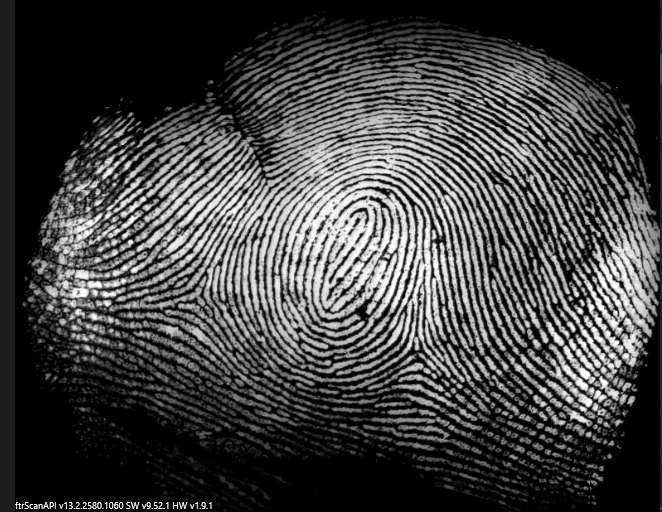nucelo: (336, 204, 375, 248)
verticilo: (180, 275, 212, 308), (400, 333, 431, 364)
